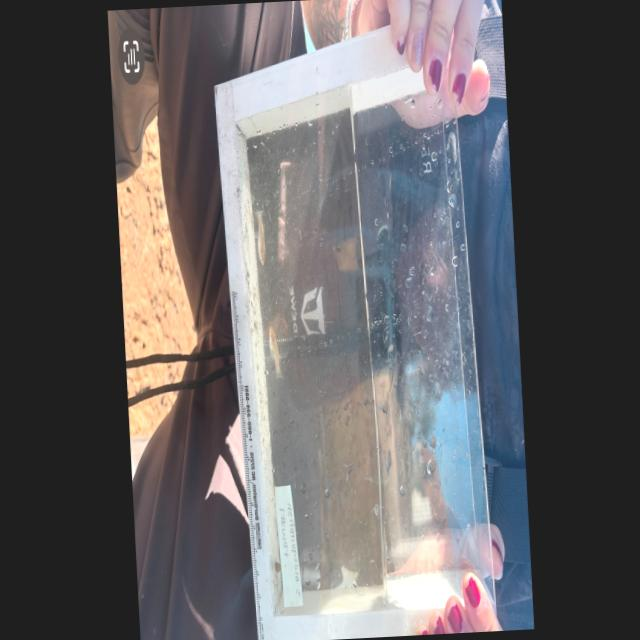Sivrisinek Baligi: (252, 200, 268, 267), (264, 327, 282, 378)
